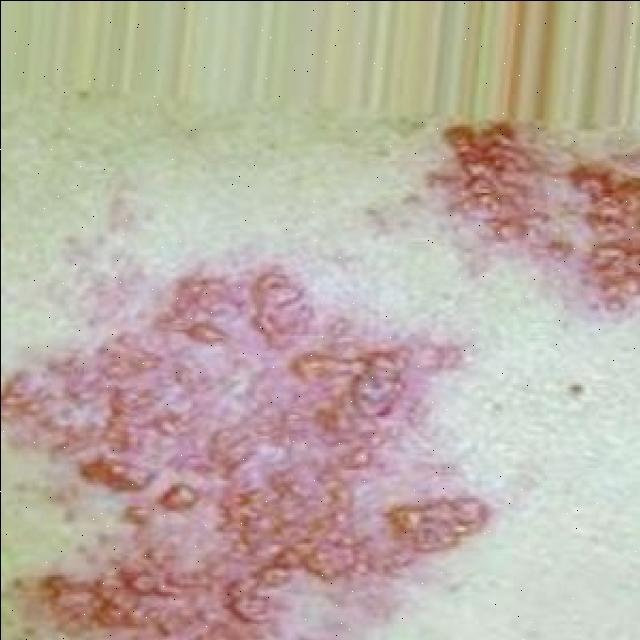Shingles: (2, 266, 490, 638), (437, 118, 640, 316)
